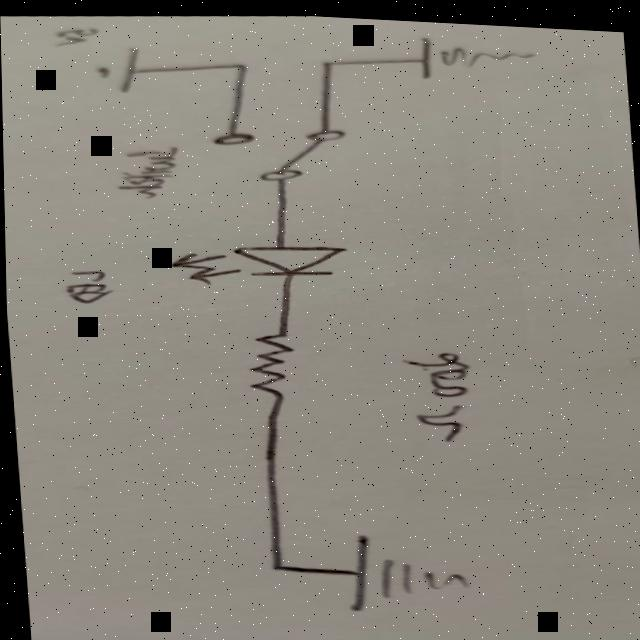diode: (161, 232, 344, 287)
ground: (337, 525, 471, 612), (412, 26, 535, 79)
junction: (255, 556, 296, 572), (225, 58, 254, 71), (313, 54, 339, 66)
resistor: (242, 326, 292, 394)
source: (89, 45, 144, 94)
switch: (205, 118, 349, 187)
text: (396, 345, 478, 442), (113, 145, 181, 201), (59, 267, 105, 305), (46, 24, 100, 48)
